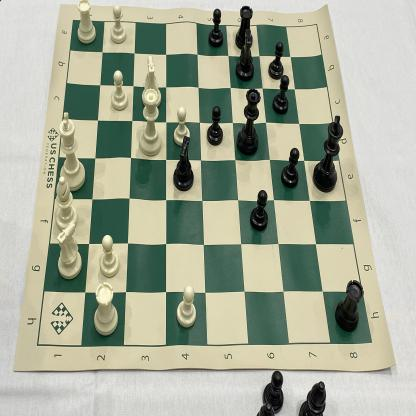black-king: (312, 113, 345, 195)
black-knight: (167, 135, 196, 193), (235, 28, 256, 84)
black-pawn: (279, 143, 301, 190), (204, 103, 226, 148), (248, 188, 269, 233), (272, 72, 291, 117), (206, 6, 225, 48), (267, 39, 285, 81)
black-queen: (234, 85, 263, 157)
black-rook: (334, 277, 365, 335), (233, 3, 255, 54)
white-bishop: (49, 174, 80, 231)
white-king: (53, 110, 86, 192)
white-knight: (52, 222, 85, 282), (140, 53, 165, 110)
white-pawn: (172, 281, 198, 330), (97, 230, 121, 281), (171, 102, 192, 146), (109, 67, 129, 112), (109, 2, 127, 45)
white-queen: (135, 88, 165, 158)
white-rook: (91, 281, 121, 338), (74, 0, 98, 47)
